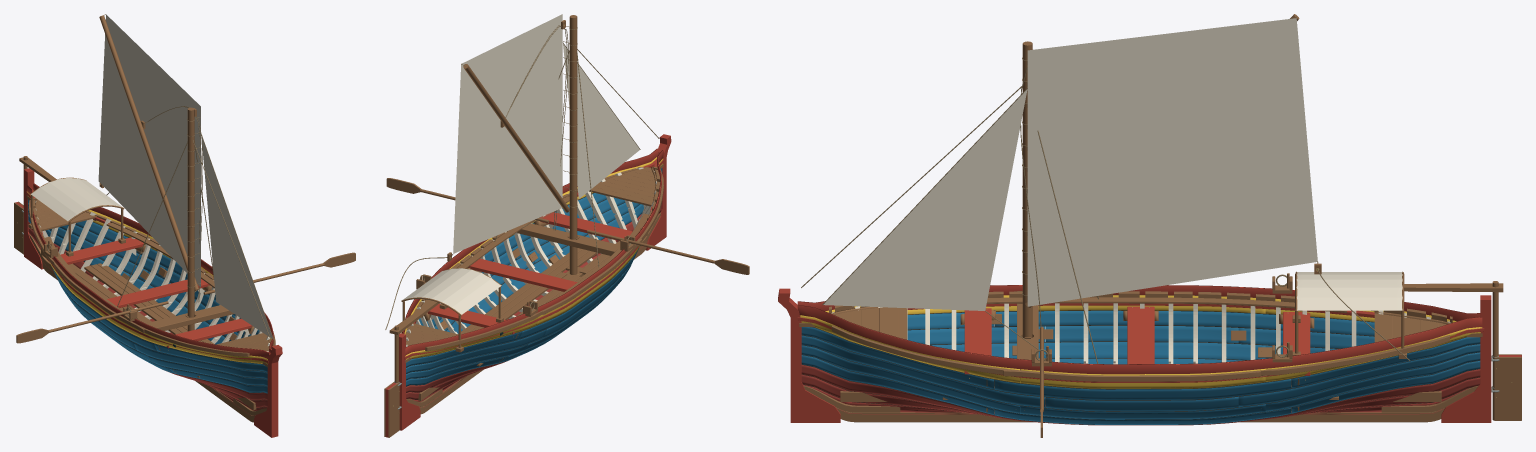
Rendered from xprunara-mobile.glb.
The picture shows the model from 3 angles, left to right: view 1: azimuth 30°, elevation 25°; view 2: azimuth 150°, elevation 25°; view 3: azimuth 270°, elevation 25°; orthographic projection. The views are drawn at different scales.
Parts seen in each view (by area): view 1: spritsail-472, jib-474, mast-455, sprit-473, washboards-74, bow-post-5, thwarts-337, planking-52, thwarts-324, mast-partners-452, thwarts-350, planking-58 (+29 smaller); view 2: spritsail-472, jib-474, mast-455, washboards-74, thwarts-337, mast-partners-452, sprit-473, planking-50, stern-post-6, thwarts-350, bow-post-5, washboards-173 (+33 smaller); view 3: spritsail-472, jib-474, washboards-173, planking-156, keel-0, planking-57, planking-37, bow-post-5, stern-post-6, planking-151, planking-149, planking-150 (+44 smaller).
Part boxes in pixels (x1,y1,x2,y2): spritsail-472: (98, 14, 200, 287); jib-474: (201, 136, 272, 338); mast-455: (187, 107, 194, 331); sprit-473: (99, 15, 198, 290); washboards-74: (27, 185, 270, 358); bow-post-5: (254, 345, 282, 437); thwarts-337: (107, 279, 210, 307); planking-52: (133, 342, 267, 379); thwarts-324: (47, 237, 143, 264); mast-partners-452: (146, 305, 233, 330); thwarts-350: (166, 318, 252, 348); planking-58: (154, 343, 267, 372); spritsail-472: (453, 14, 562, 253); jib-474: (563, 43, 639, 198); mast-455: (569, 15, 577, 274); washboards-74: (405, 150, 663, 355); thwarts-337: (468, 258, 577, 291); mast-partners-452: (517, 223, 620, 255); sprit-473: (463, 64, 569, 212); planking-50: (406, 329, 546, 373); stern-post-6: (399, 333, 420, 430); thwarts-350: (540, 212, 632, 240); bow-post-5: (645, 134, 671, 250); washboards-173: (402, 148, 658, 333); spritsail-472: (1027, 18, 1317, 306); jib-474: (823, 89, 1027, 310); washboards-173: (797, 305, 1482, 374); planking-156: (994, 379, 1291, 399); keel-0: (854, 411, 1427, 422); planking-57: (994, 310, 1282, 329); planking-37: (1038, 342, 1265, 360); bow-post-5: (778, 288, 840, 422); stern-post-6: (1441, 295, 1491, 422); planking-151: (801, 335, 1045, 407); planking-149: (1238, 344, 1480, 407); planking-150: (1045, 396, 1238, 411).
Bounding box in the file's own units: 9.31 × 7.62 × 12.51.
